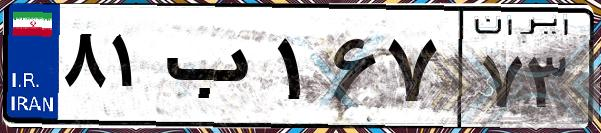1: (270, 28, 330, 110), (110, 28, 158, 98)
3: (525, 38, 570, 115)
6: (330, 28, 385, 110)
7: (385, 28, 445, 110), (475, 38, 525, 113)
8: (57, 26, 110, 100)
ب: (158, 20, 270, 120)
